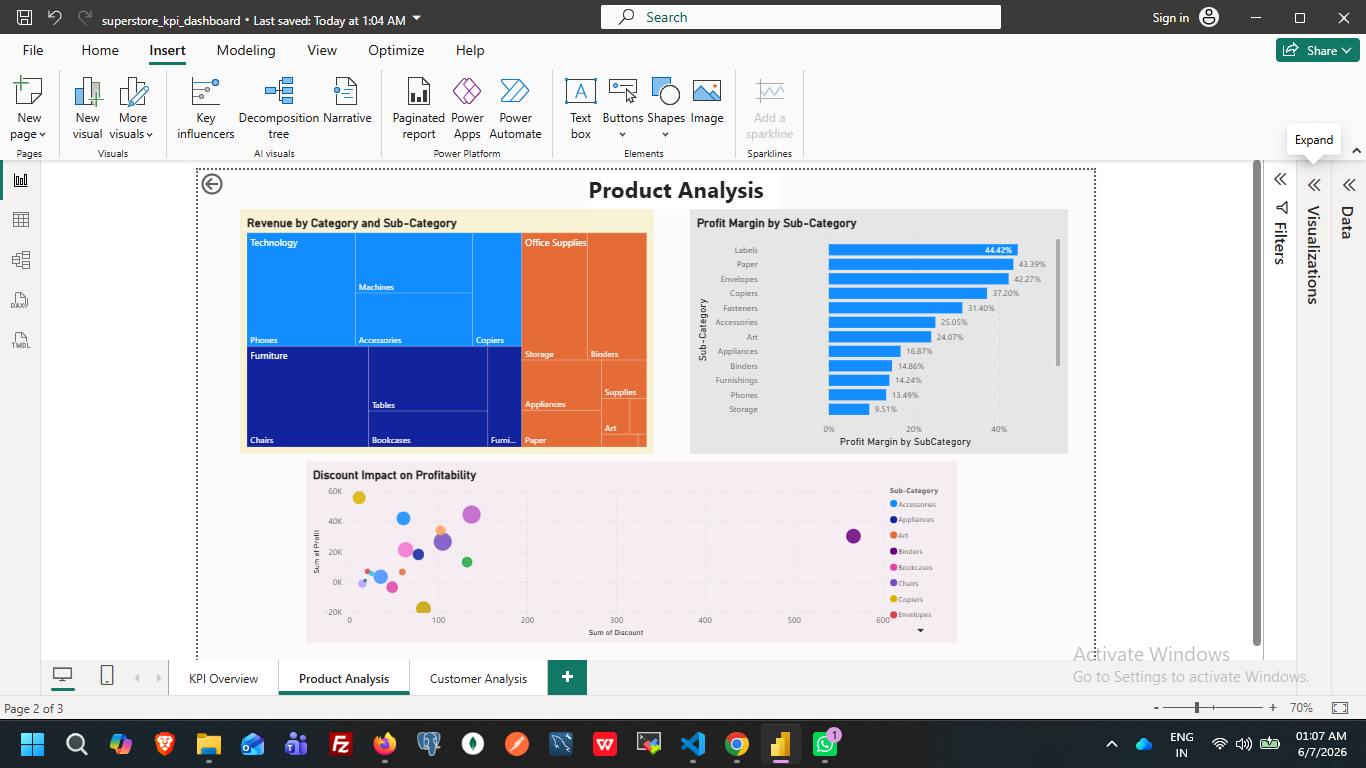

The dashboard page shown, as its layout file describes it:
{"tool":"powerbi","page":{"name":"Product Analysis","canvas":[1280,720],"ordinal":1},"visuals":[{"type":"treemap","title":"Revenue by Category and Sub-Category","fields":{"Group":["superstore.Category"],"Details":["superstore.Sub-Category"],"Values":["superstore.Total Revenue"]},"box":[60,55.7,591.4,350],"z":0},{"type":"clusteredBarChart","title":"Profit Margin by Sub-Category","fields":{"Category":["superstore.Sub-Category"],"Y":["superstore.Profit Margin by SubCategory"]},"box":[702.9,55.7,540,350],"z":1000},{"type":"scatterChart","title":"Discount Impact on Profitability","fields":{"X":["Sum(superstore.Discount)"],"Y":["Sum(superstore.Profit)"],"Size":["Sum(superstore.Sales)"],"Series":["superstore.Sub-Category"]},"box":[154.3,415.7,930,260],"z":2000},{"type":"actionButton","box":[0,0,100,40],"z":2001},{"type":"textbox","box":[552.9,0,275.7,55.7],"z":2002}]}

Visuals, with their boxes on the page's 1280x720 design canvas (x1, y1, x2, y2). These are canvas units, not pixel positions in the 1366x768 screenshot, which may show the page scaled, cropped or inside an application window:
"Revenue by Category and Sub-Category" treemap: <box>60,56,651,406</box>
"Profit Margin by Sub-Category" clusteredBarChart: <box>703,56,1243,406</box>
"Discount Impact on Profitability" scatterChart: <box>154,416,1084,676</box>
actionButton: <box>0,0,100,40</box>
textbox: <box>553,0,829,56</box>
